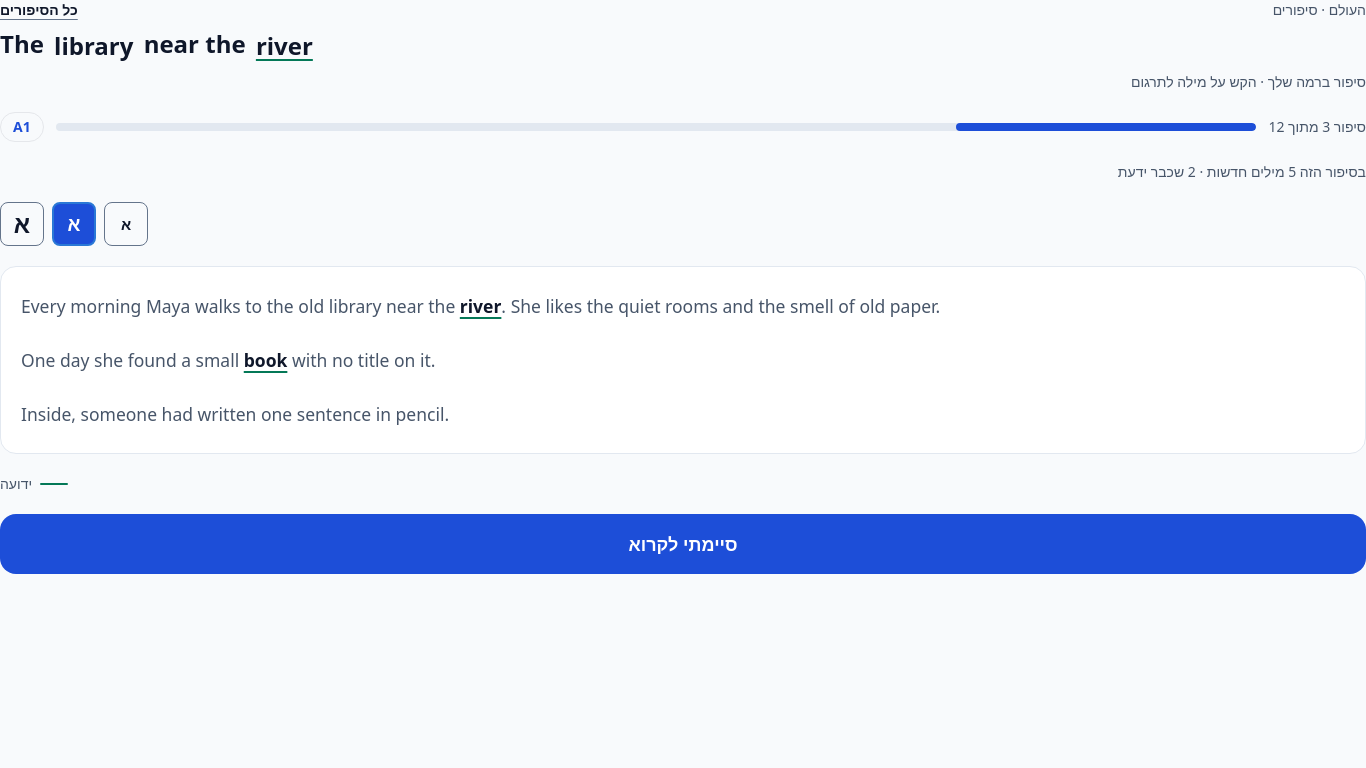
Scenario: T-238ⓑ — הפופאובר בסיפור מדווח מה שקרה באמת (D-183) › ⛔ לחיצה על RETRY_HE מריצה מחדש את אותו POST — ⛔ לא מסך שני (D-183 ⓑ2)
The width and height of the screenshot is (1366, 768).
Click the button "library" in the row of "to" at x=355, y=306, box [321,279,389,333]
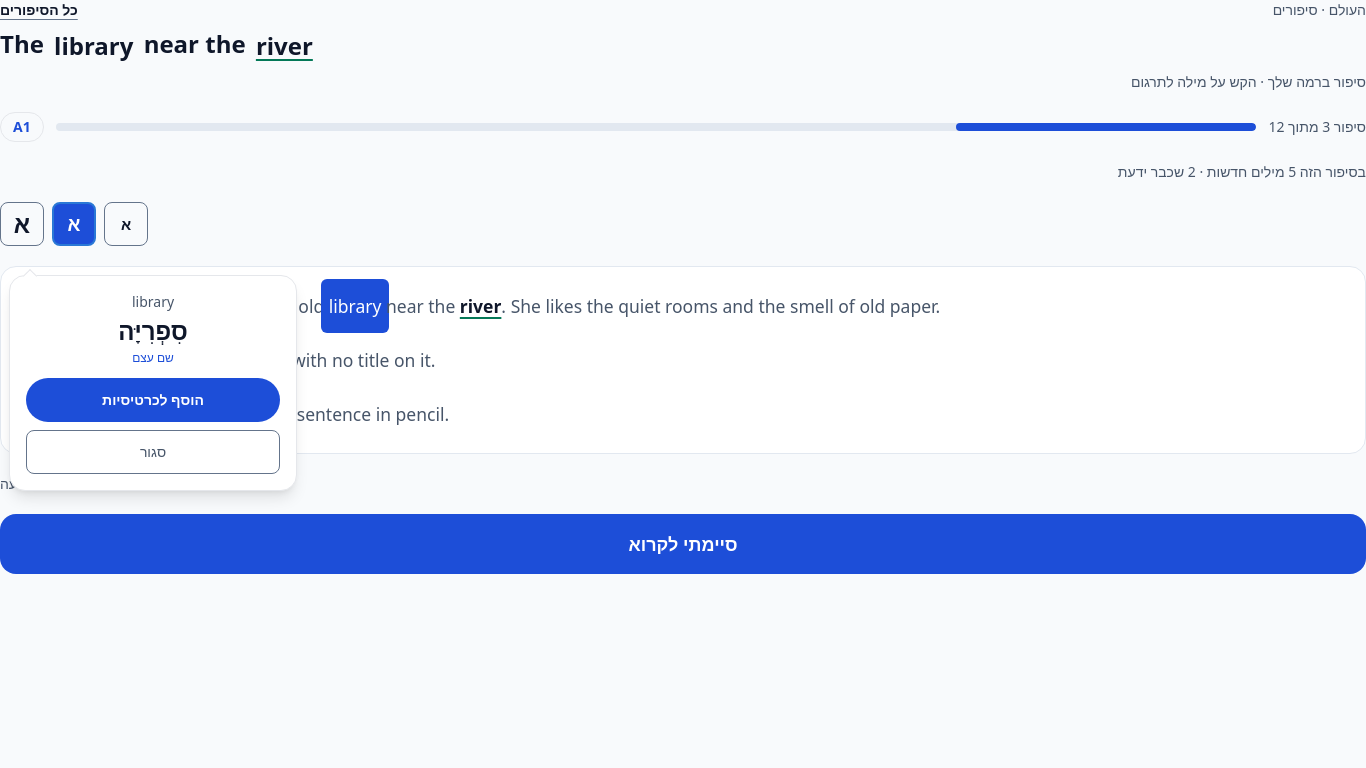
Click the button "הוסף לכרטיסיות" at x=153, y=400, box [26,378,280,422]
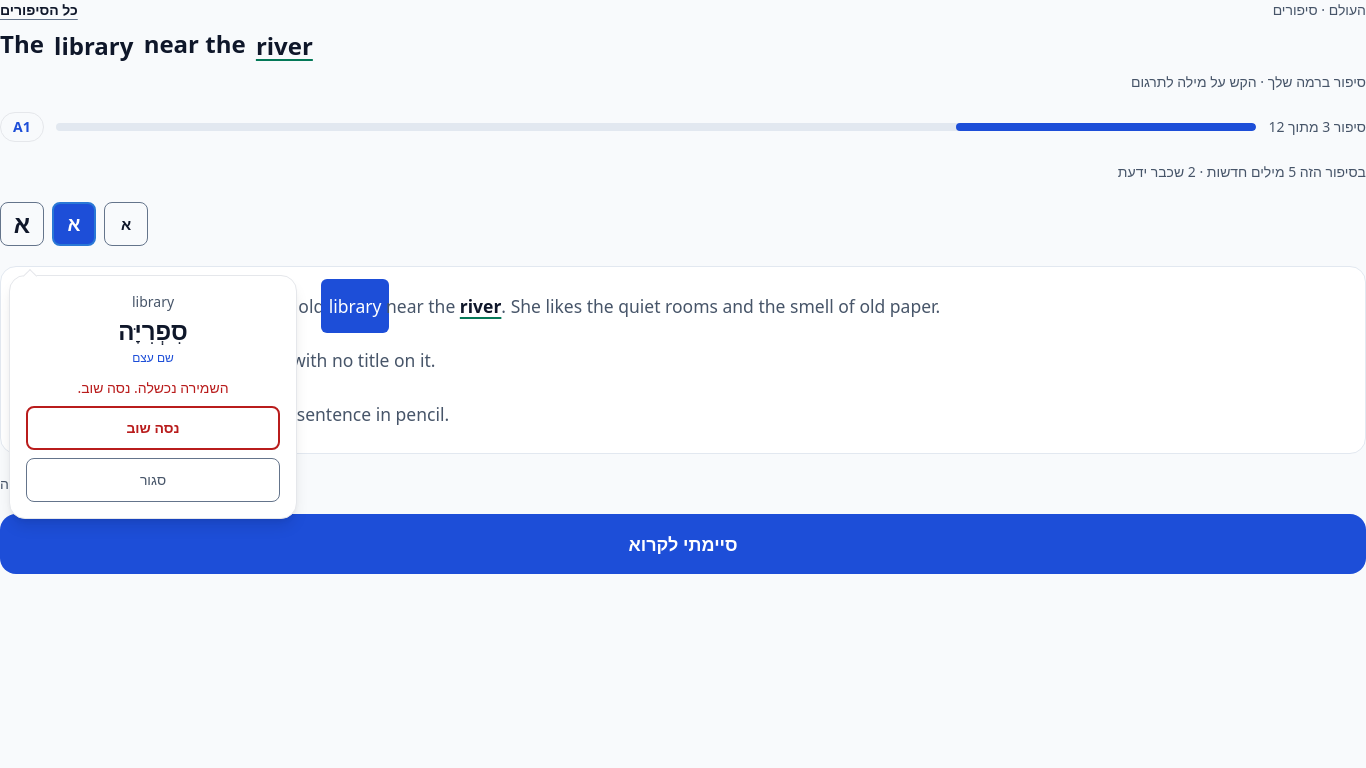
Now the button "נסה שוב" is shown
Click the button "נסה שוב" at x=153, y=428, box [26,406,280,450]
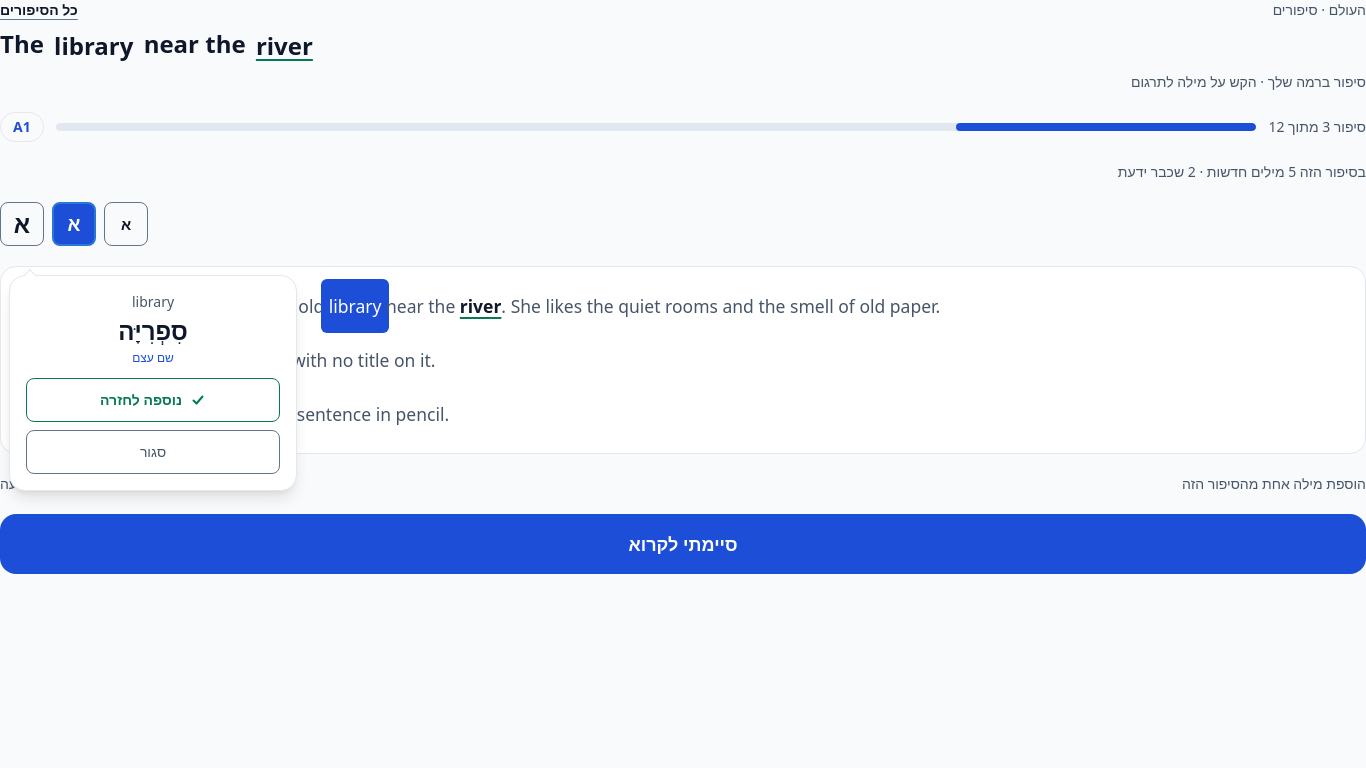
Now the text "נוספה לחזרה" is shown, box [26,378,280,422]
